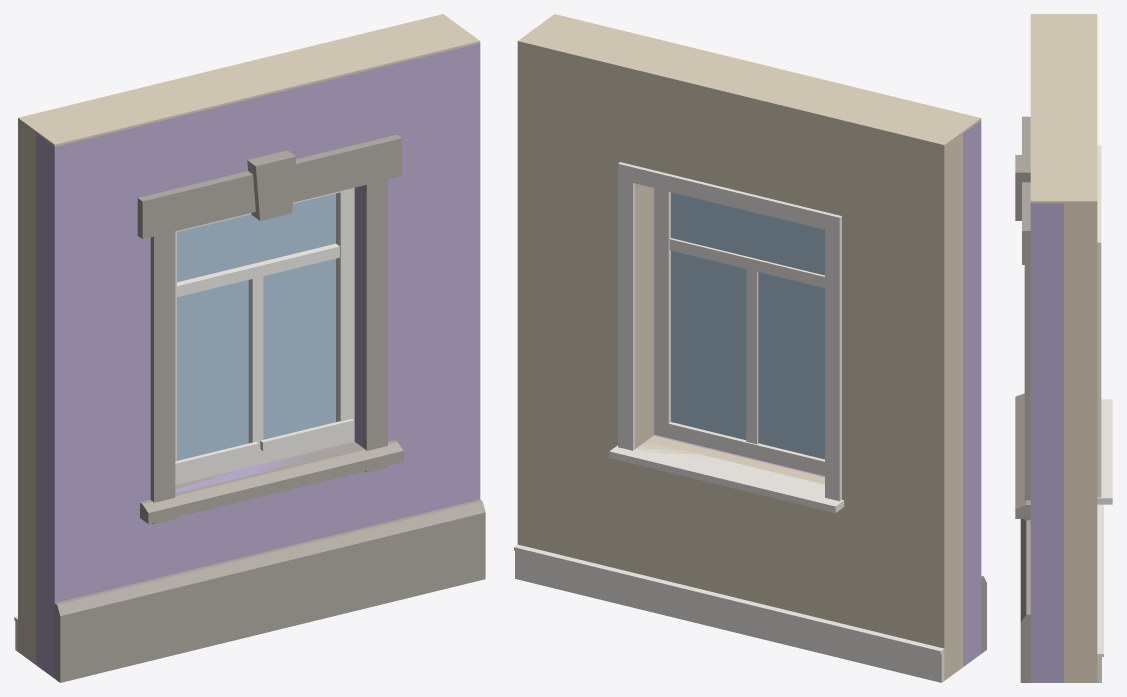
File: wall-window.glb
3 renders of one model, left to right at view 1: azimuth 30°, elevation 25°; view 2: azimuth 150°, elevation 25°; view 3: azimuth 270°, elevation 25°, orthographic. The views are drawn at different scales.
Visible parts, largest first — view 1: wall-window; view 2: wall-window; view 3: wall-window.
Part boxes in pixels (bbox=[...]): wall-window: bbox=[14, 14, 485, 682]; wall-window: bbox=[514, 14, 986, 682]; wall-window: bbox=[1015, 14, 1112, 682].
Bounding box in the file's own units: 2 × 2.4 × 0.44.
